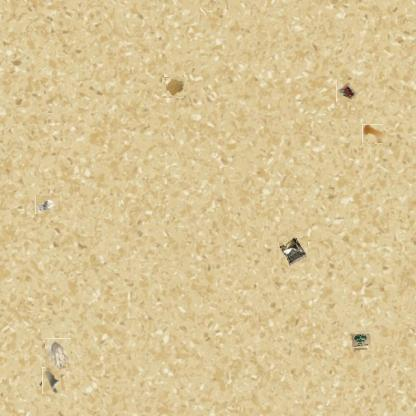dirty: (278, 236, 308, 266), (44, 340, 73, 370), (40, 369, 63, 392), (336, 80, 359, 102), (37, 195, 57, 216), (350, 331, 370, 350)
liquid: (163, 75, 185, 97), (362, 123, 383, 144)
